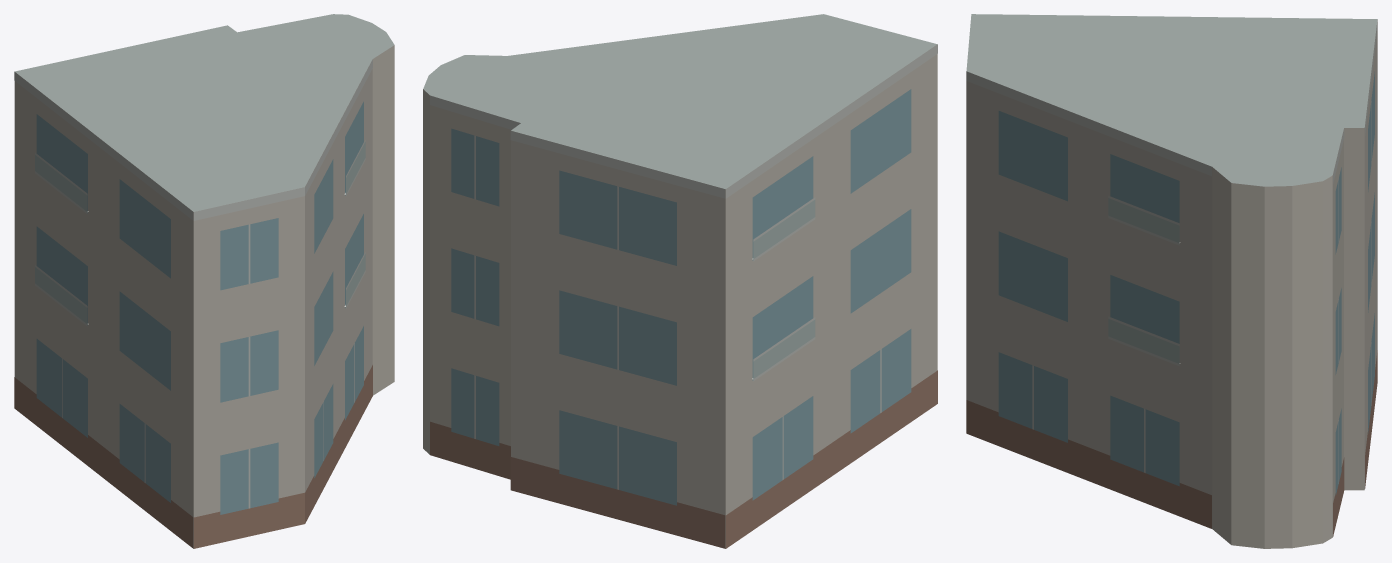
The model's file is survey-upis-33000262.glb.
3 renders of one model, left to right at view 1: azimuth 30°, elevation 25°; view 2: azimuth 150°, elevation 25°; view 3: azimuth 270°, elevation 25°, orthographic. The views are drawn at different scales.
Parts seen in each view (by area): view 1: survey-upis-33000262.tmp; view 2: survey-upis-33000262.tmp; view 3: survey-upis-33000262.tmp.
Boxes of the visible parts, <box> form: survey-upis-33000262.tmp: <box>14,14,394,548</box>; survey-upis-33000262.tmp: <box>423,14,937,548</box>; survey-upis-33000262.tmp: <box>966,14,1377,548</box>.
Bounding box in the file's own units: 9.36 × 9.15 × 9.42.
